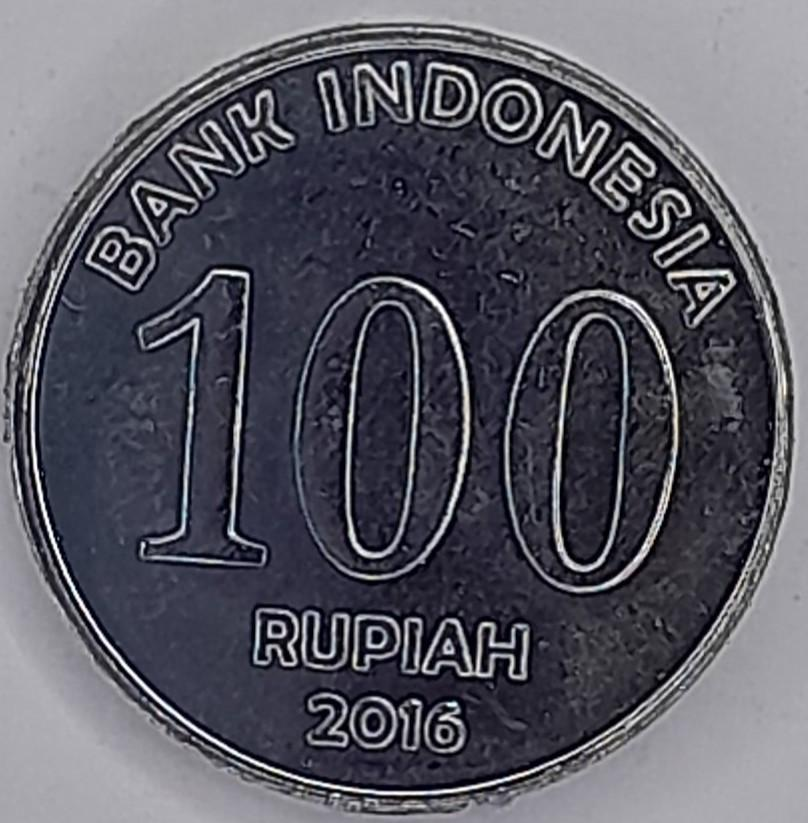coin_100_e2016: (0, 18, 800, 816)
